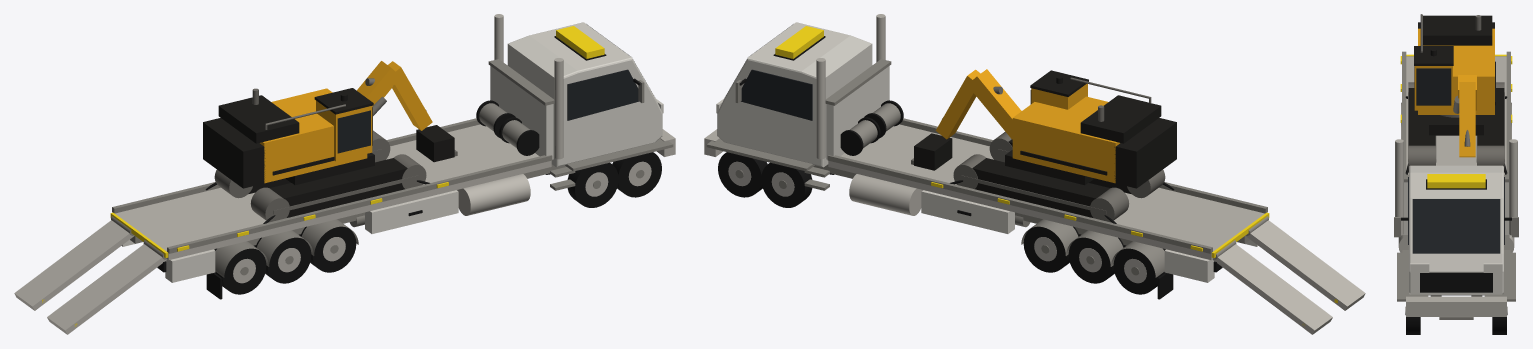
The model's file is rollout-heavy-haul-carrier.glb.
3 views of the same model, side by side, from view 1: azimuth 30°, elevation 25°; view 2: azimuth 150°, elevation 25°; view 3: azimuth 270°, elevation 25° (orthographic). The views are drawn at different scales.
Parts seen in each view (by area): view 1: deck_platform, cab_shell, house, track_l, ramp_l, ramp_r, counterweight, deck_rail_l, cab_side_glass, headboard, engine_cover, deck_locker_l (+27 smaller); view 2: deck_platform, cab_shell, house, track_r, ramp_r, ramp_l, counterweight, deck_rail_r, cab_side_glass, headboard, engine_cover, deck_locker_r (+26 smaller); view 3: cab_shell, windshield, house, bumper, engine_cover, deck_platform, grille, operator_glass_front, stick, track_r, track_l, beacon_bar (+28 smaller).
Boxes of the visible parts, left/top/right/bottom form: deck_platform: left=115, top=124, right=551, bottom=260; cab_shell: left=507, top=22, right=662, bottom=167; house: left=260, top=88, right=367, bottom=183; track_l: left=270, top=158, right=407, bottom=217; ramp_l: left=47, top=244, right=167, bottom=334; ramp_r: left=14, top=220, right=134, bottom=310; counterweight: left=203, top=118, right=265, bottom=188; deck_rail_l: left=167, top=155, right=552, bottom=253; cab_side_glass: left=567, top=69, right=638, bottom=120; headboard: left=490, top=66, right=553, bottom=159; engine_cover: left=218, top=95, right=299, bottom=143; deck_locker_l: left=365, top=190, right=458, bottom=233; deck_platform: left=828, top=124, right=1264, bottom=260; cab_shell: left=717, top=22, right=872, bottom=167; house: left=1012, top=96, right=1119, bottom=183; track_r: left=972, top=158, right=1109, bottom=217; ramp_r: left=1212, top=244, right=1332, bottom=334; ramp_l: left=1245, top=220, right=1365, bottom=310; counterweight: left=1114, top=118, right=1176, bottom=188; deck_rail_r: left=827, top=155, right=1212, bottom=253; cab_side_glass: left=741, top=69, right=812, bottom=120; headboard: left=826, top=66, right=889, bottom=159; engine_cover: left=1080, top=95, right=1161, bottom=143; deck_locker_r: left=921, top=190, right=1014, bottom=233; cab_shell: left=1409, top=165, right=1503, bottom=294; windshield: left=1412, top=199, right=1500, bottom=253; house: left=1418, top=28, right=1494, bottom=114; bumper: left=1406, top=296, right=1506, bottom=316; engine_cover: left=1423, top=15, right=1492, bottom=45; deck_platform: left=1403, top=56, right=1509, bottom=240; grille: left=1420, top=272, right=1492, bottom=292; operator_glass_front: left=1416, top=68, right=1451, bottom=105; stick: left=1459, top=82, right=1475, bottom=157; track_r: left=1477, top=88, right=1504, bottom=145; track_l: left=1408, top=88, right=1435, bottom=145; beacon_bar: left=1427, top=174, right=1485, bottom=188.
Bounding box in the file's own units: 18.35 × 4.7 × 3.41.
